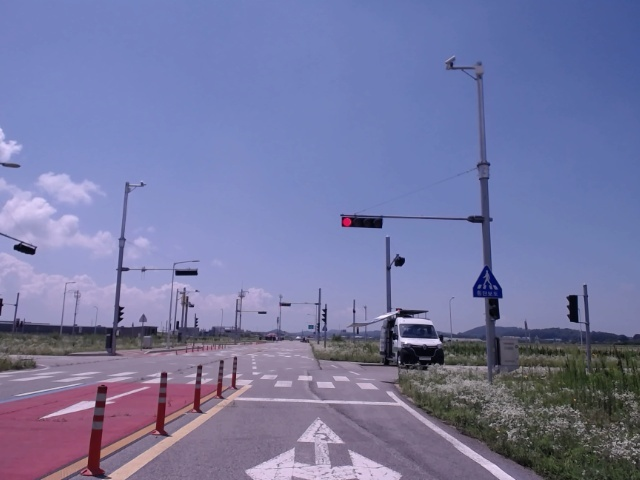red_4: (342, 217, 382, 228)
